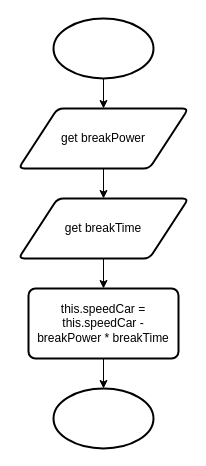
Image size: 206x466. Some labels were removed from this diagram. The shapes that lost their labels are listed below. From the top down, each one's centre as x and y in pixels, then its label:
the point at 103,48: Start
the point at 103,418: Stop
